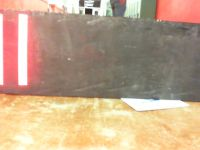switch: (17, 14, 28, 86), (1, 13, 4, 85)
